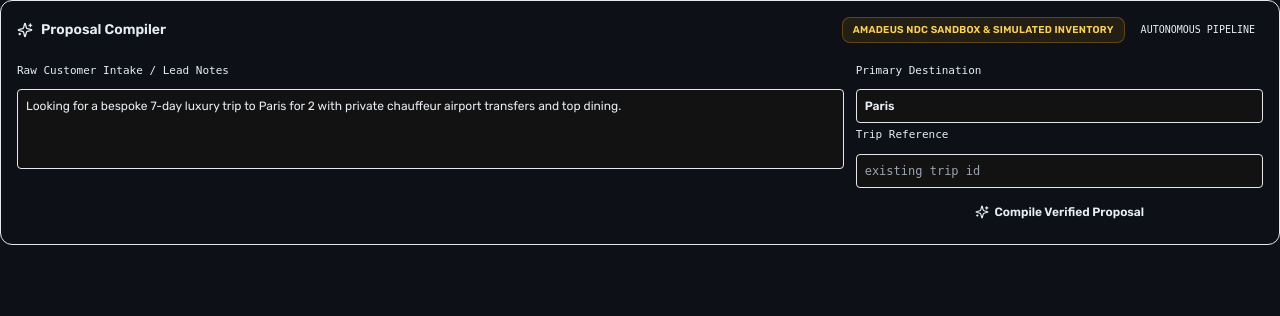
Test: ProposalCompilerPanel honesty (PA-25) › shows a compile error instead of fabricating a local package on failure
This screenshot has width=1280, height=316.
Type "trip-test-01" into the field named "trip reference" at coordinates (1059, 171), box [856, 154, 1263, 188]
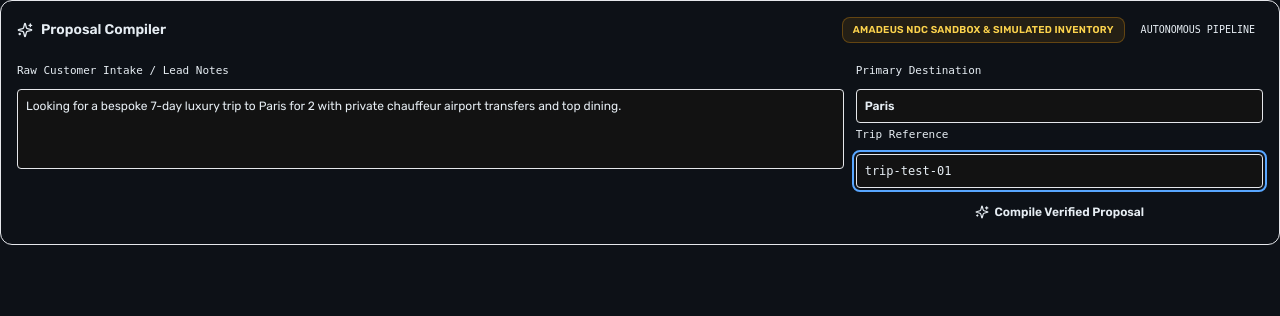
Click the button "Compile Verified Proposal" at coordinates (1059, 212), box [856, 196, 1263, 228]
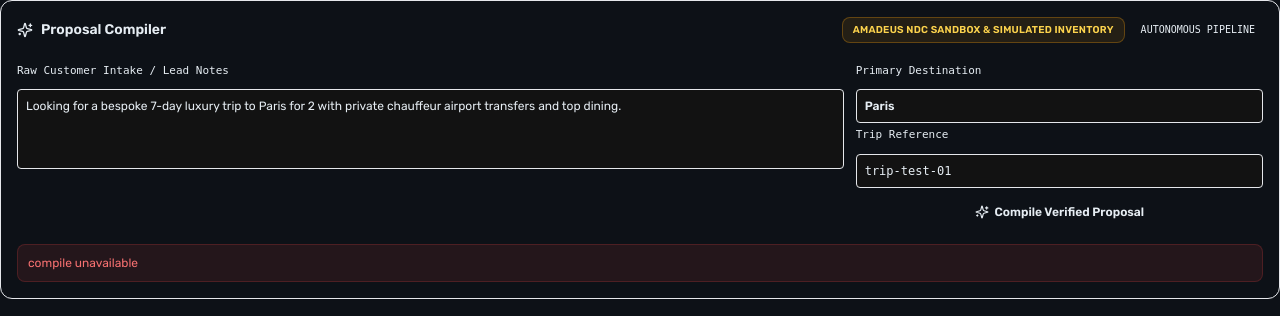
expect the text "compile unavailable" is shown: met, box [17, 244, 1263, 282]
